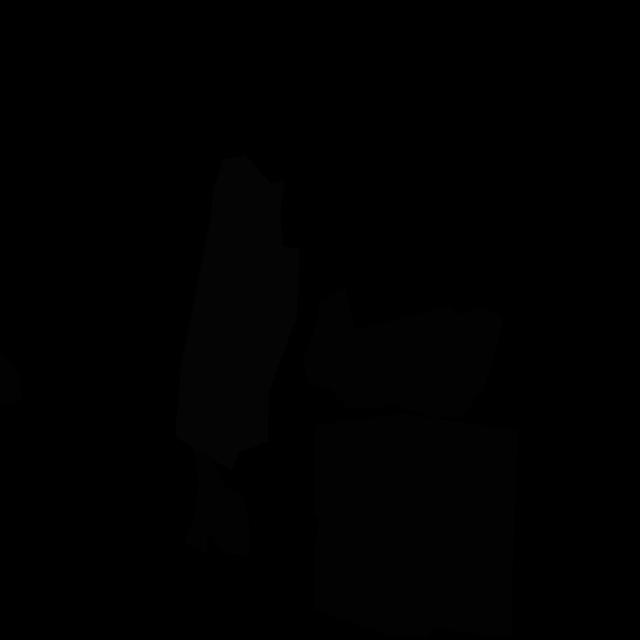cardboard: (314, 413, 518, 638), (302, 287, 504, 418), (184, 448, 251, 555)
soft_plastic: (175, 154, 300, 471)
